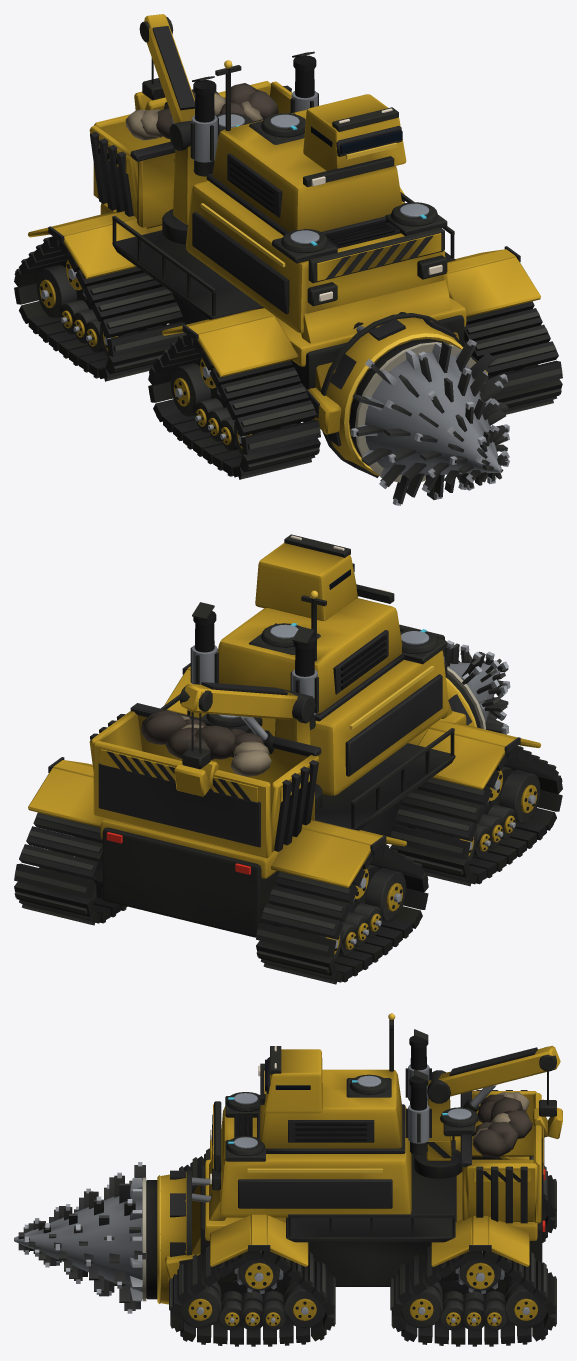
Rendered from ex_crawler_9.glb.
3 views of the same model, one above another, from view 1: azimuth 30°, elevation 25°; view 2: azimuth 150°, elevation 25°; view 3: azimuth 270°, elevation 25° (orthographic). The views are drawn at different scales.
Visible parts, largest first — view 1: body, drill, wheel_20, wheel_8; view 2: body, drill, wheel_7, wheel_19, wheel_11, wheel_23; view 3: body, drill, wheel_2, wheel_14, wheel_1, wheel_13, wheel_0, wheel_12, wheel_3, wheel_15, wheel_5, wheel_16 (+2 smaller).
Boxes of the visible parts, left/top/right/bottom form: body: left=14, top=14, right=562, bottom=479; drill: left=349, top=339, right=509, bottom=505; wheel_20: left=36, top=263, right=86, bottom=318; wheel_8: left=170, top=361, right=221, bottom=416; body: left=14, top=534, right=562, bottom=984; drill: left=443, top=640, right=510, bottom=734; wheel_7: left=488, top=766, right=540, bottom=823; wheel_19: left=354, top=864, right=406, bottom=921; wheel_11: left=482, top=803, right=516, bottom=839; wheel_23: left=348, top=901, right=382, bottom=937; body: left=157, top=1013, right=562, bottom=1346; drill: left=14, top=1162, right=157, bottom=1313; wheel_2: left=283, top=1278, right=325, bottom=1328; wheel_14: left=505, top=1279, right=546, bottom=1328; wheel_1: left=179, top=1282, right=221, bottom=1328; wheel_13: left=401, top=1282, right=442, bottom=1328; wheel_0: left=234, top=1251, right=283, bottom=1293; wheel_12: left=455, top=1251, right=504, bottom=1293; wheel_3: left=260, top=1291, right=286, bottom=1330; wheel_15: left=481, top=1291, right=507, bottom=1330; wheel_5: left=219, top=1291, right=244, bottom=1330; wheel_16: left=461, top=1291, right=486, bottom=1330.
Size of the model in its own units: 10.94 by 10.87 by 19.45.
